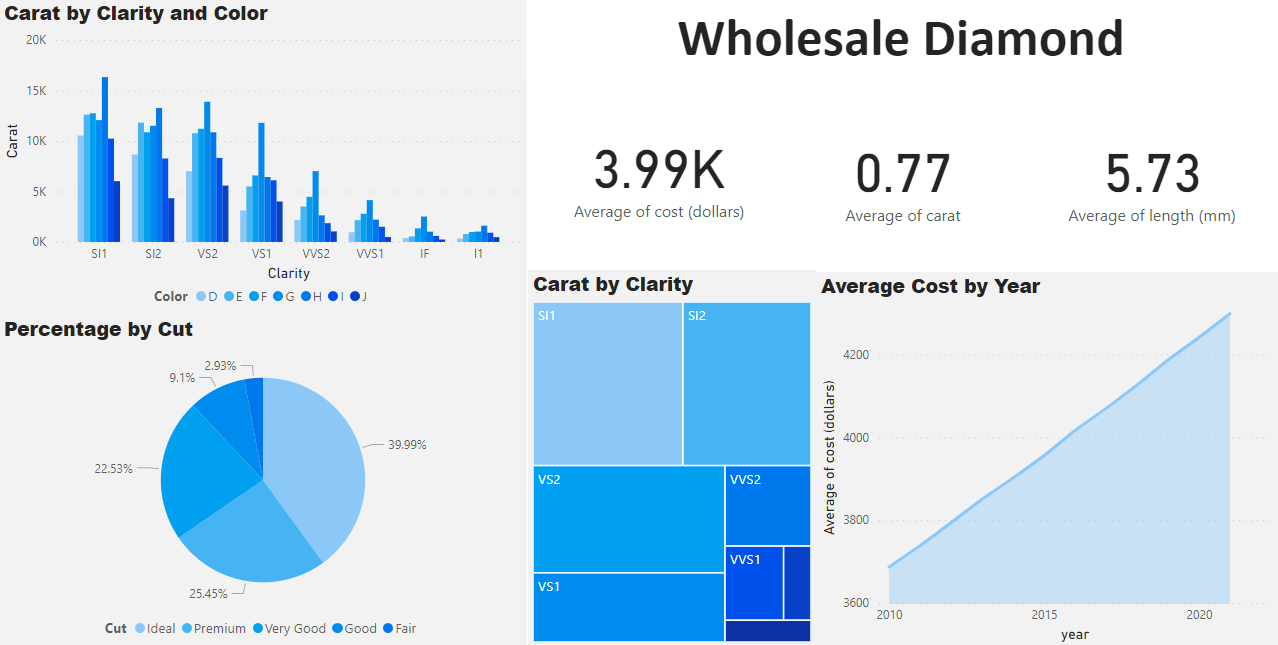

This screenshot's page, from the dashboard's own definition file:
{"tool":"powerbi","page":{"name":"WholeSale_General Report","canvas":[1280,720],"ordinal":0},"visuals":[{"type":"clusteredColumnChart","title":"Carat by Clarity and Color","fields":{"Y":["Sum(wholesale_diamond_cleaned (1).carat)"],"Category":["wholesale_diamond_cleaned (1).clarity"],"Series":["wholesale_diamond_cleaned (1).color"]},"box":[0,72,528.3,316.2],"z":0},{"type":"stackedAreaChart","title":"Average Cost by Year","fields":{"Y":["Avg(wholesale_diamond_cleaned (1).cost (dollars))"],"Category":["wholesale_diamond_cleaned (1).year"]},"box":[817.1,344.6,462.7,375.4],"z":1000},{"type":"card","fields":{"Values":["Avg(wholesale_diamond_cleaned (1).cost (dollars))"]},"box":[537.8,145.8,244.3,198.8],"z":2000},{"type":"actionButton","box":[0,0,100,40],"z":3000},{"type":"pieChart","title":"Percentage by Cut","fields":{"Category":["wholesale_diamond_cleaned (1).cut"],"Y":["CountNonNull(wholesale_diamond_cleaned (1).cut)"]},"box":[0,388.2,528.3,331.4],"z":4000},{"type":"card","fields":{"Values":["Avg(wholesale_diamond_cleaned (1).carat)"]},"box":[782,153.4,244.3,191.2],"z":5000},{"type":"card","fields":{"Values":["Avg(wholesale_diamond_cleaned (1).length (mm))"]},"box":[1026.3,153.4,253.7,191.2],"z":6000},{"type":"textbox","box":[524.5,72,755.5,81.4],"z":7000},{"type":"treemap","title":"Carat by Clarity","fields":{"Values":["Sum(wholesale_diamond_cleaned (1).carat)"],"Group":["wholesale_diamond_cleaned (1).clarity"]},"box":[529.1,343,288,377],"z":8000}]}

Visuals, with their boxes on the page's 1280x720 design canvas (x1, y1, x2, y2). These are canvas units, not pixel positions in the 1278x645 screenshot, which may show the page scaled, cropped or inside an application window:
"Carat by Clarity and Color" clusteredColumnChart: <region>0, 72, 528, 388</region>
"Average Cost by Year" stackedAreaChart: <region>817, 345, 1280, 720</region>
card - Avg(wholesale_diamond_cleaned (1).cost (dollars)): <region>538, 146, 782, 345</region>
actionButton: <region>0, 0, 100, 40</region>
"Percentage by Cut" pieChart: <region>0, 388, 528, 720</region>
card - Avg(wholesale_diamond_cleaned (1).carat): <region>782, 153, 1026, 345</region>
card - Avg(wholesale_diamond_cleaned (1).length (mm)): <region>1026, 153, 1280, 345</region>
textbox: <region>524, 72, 1280, 153</region>
"Carat by Clarity" treemap: <region>529, 343, 817, 720</region>
